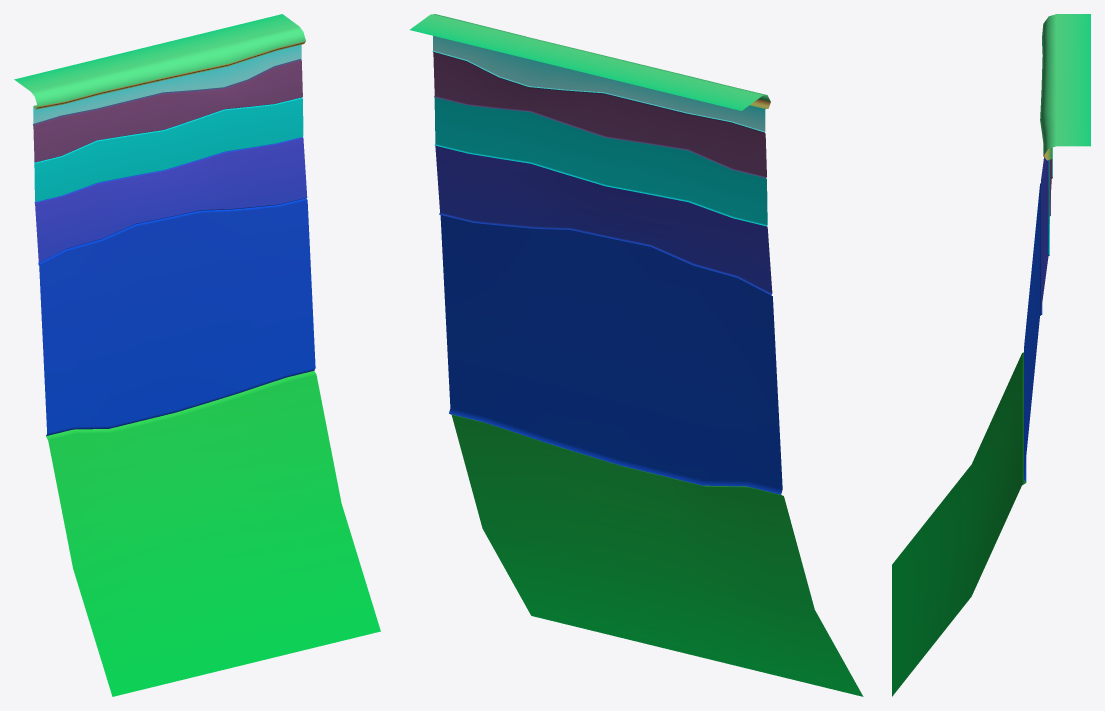
The model's file is FrontDirt.fbx.
3 renders of one model, left to right at view 1: azimuth 30°, elevation 25°; view 2: azimuth 150°, elevation 25°; view 3: azimuth 270°, elevation 25°, orthographic. The views are drawn at different scales.
Visible parts, largest first — view 1: FrontDirt; view 2: FrontDirt; view 3: FrontDirt.
Part boxes in pixels (x1=…): FrontDirt: x1=14, y1=14, x2=380, y2=696; FrontDirt: x1=410, y1=14, x2=863, y2=696; FrontDirt: x1=892, y1=14, x2=1090, y2=696.
Bounding box in the file's own units: 30 × 58.24 × 19.06.
